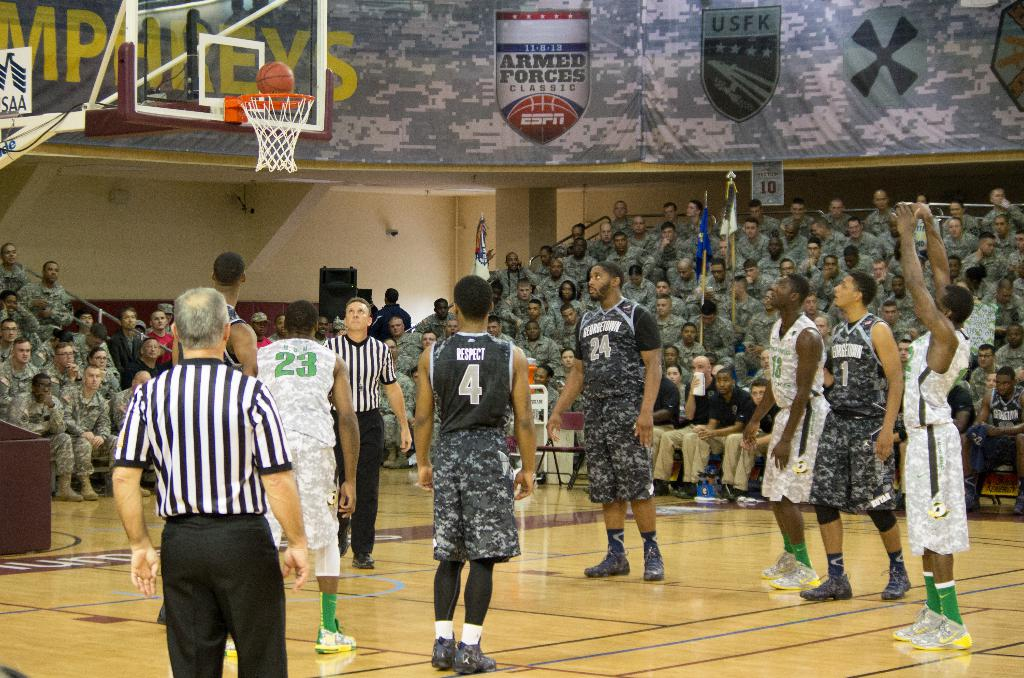Footwear: (906, 611, 969, 650), (892, 609, 950, 646), (454, 638, 499, 674), (799, 572, 851, 599), (585, 546, 628, 578), (770, 560, 815, 590), (317, 629, 355, 657), (429, 638, 458, 671), (883, 567, 910, 600), (55, 476, 83, 501), (644, 541, 660, 579), (762, 556, 788, 578), (673, 478, 695, 498), (83, 473, 98, 499), (650, 477, 668, 495), (350, 553, 371, 567)
